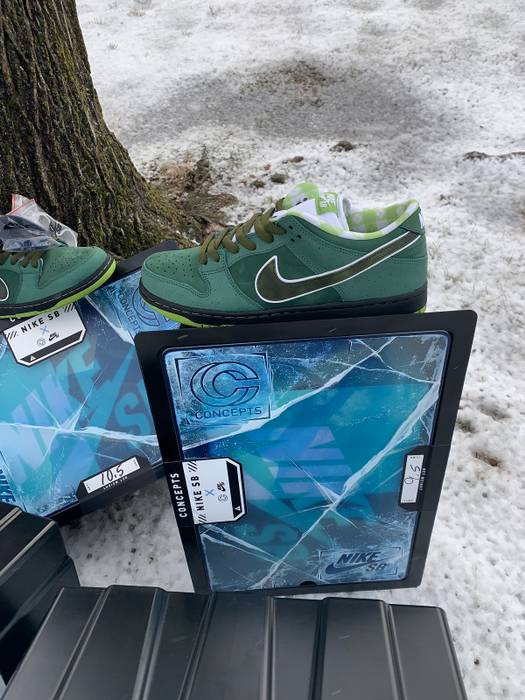Nike SB Dunk Green Lobster: (137, 180, 454, 326)
